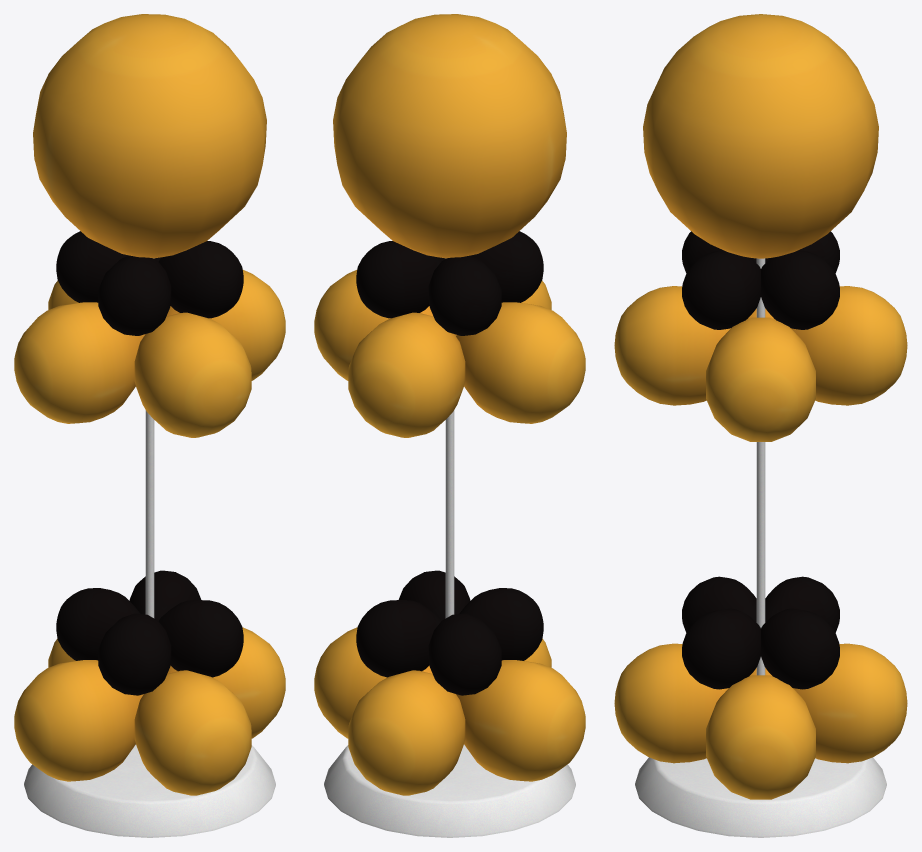
The model's file is PartyBalloons03_GR8_1.FBX.
3 views of the same model, side by side, from view 1: azimuth 30°, elevation 25°; view 2: azimuth 150°, elevation 25°; view 3: azimuth 270°, elevation 25° (orthographic).
Visible parts, largest first — view 1: PartyBalloons03_GR8_1; view 2: PartyBalloons03_GR8_1; view 3: PartyBalloons03_GR8_1.
Part boxes in pixels (<box>): PartyBalloons03_GR8_1: <box>14,14,285,837</box>; PartyBalloons03_GR8_1: <box>314,14,585,837</box>; PartyBalloons03_GR8_1: <box>614,14,907,837</box>.
Size of what is drawn, in the model's own units: 0.7585 by 2.17 by 0.7585.
